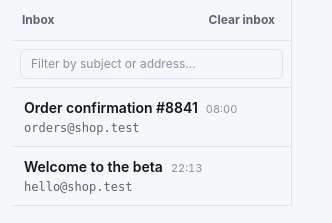
it: EmailInbox › says so when no message matches the filter
This screenshot has width=332, height=223.
Type "nonexistent" into the field with placeholder "Filter by subject or address…" at (152,64), box [20,49,283,79]
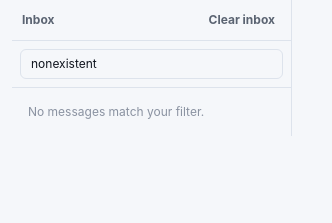
Expected: the text "No messages match your filter." is shown, [28,104,204,119]
